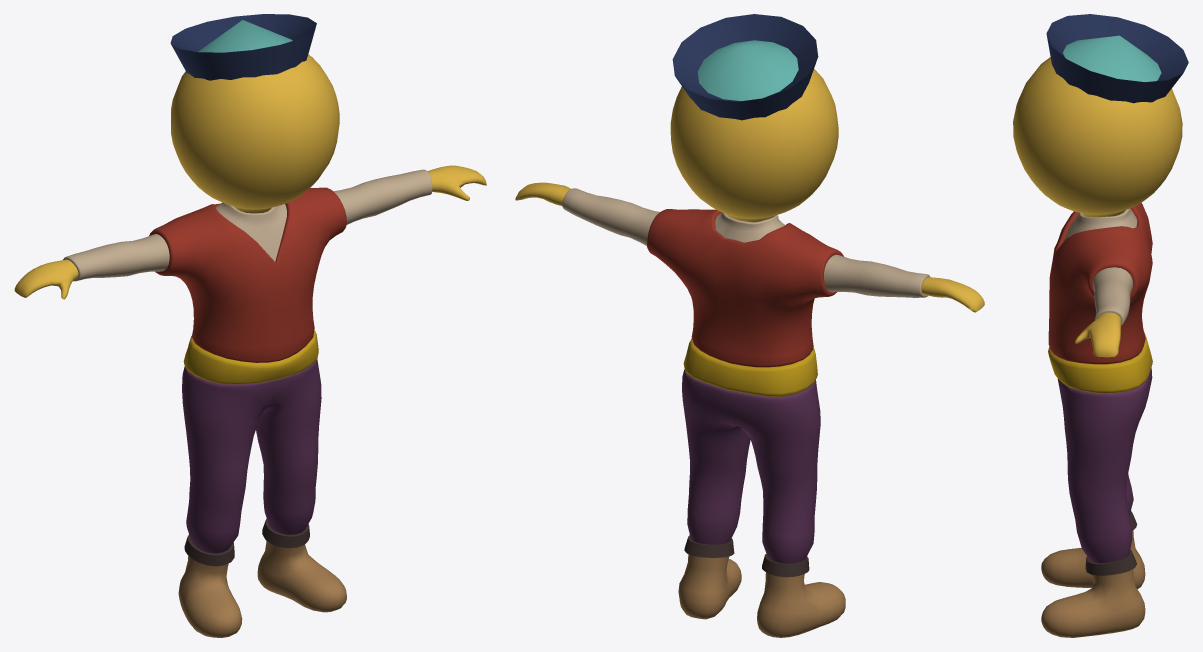
Rendered from seller.fbx.
The picture shows the model from 3 angles, left to right: view 1: azimuth 30°, elevation 25°; view 2: azimuth 150°, elevation 25°; view 3: azimuth 270°, elevation 25°; orthographic projection.
Parts seen in each view (by area): view 1: seller; view 2: seller; view 3: seller.
Boxes of the visible parts, x1,y1,x2,y2 form: seller: [14, 14, 486, 637]; seller: [515, 14, 984, 637]; seller: [1013, 14, 1188, 637].
Size of the model in its own units: 1.55 by 0.5184 by 1.86.
2 materials, 1 textured.
